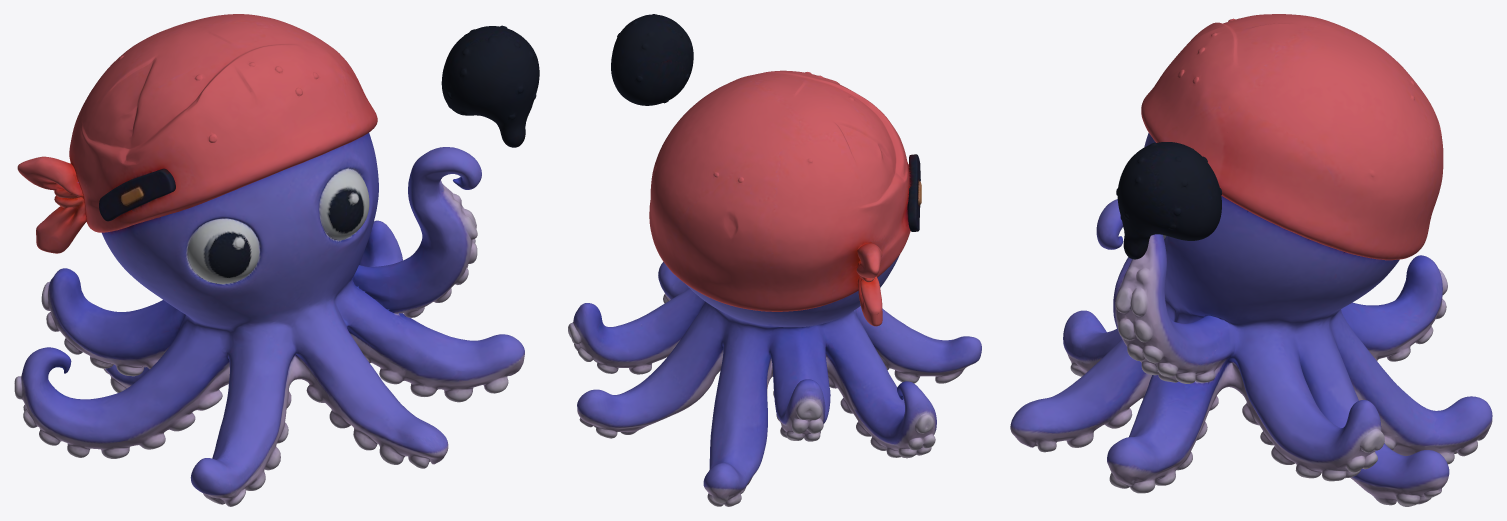
File: tripo_convert_dfeadf2a-b6bb-4936-8fae-9dc10b969085.fbx
The picture shows the model from 3 angles, left to right: view 1: azimuth 30°, elevation 25°; view 2: azimuth 150°, elevation 25°; view 3: azimuth 270°, elevation 25°; orthographic projection. The views are drawn at different scales.
Visible parts, largest first — view 1: tripo_node_dfeadf2a; view 2: tripo_node_dfeadf2a; view 3: tripo_node_dfeadf2a.
Boxes of the visible parts, <box> form: tripo_node_dfeadf2a: <box>14,14,539,506</box>; tripo_node_dfeadf2a: <box>568,14,981,506</box>; tripo_node_dfeadf2a: <box>1010,14,1492,506</box>.
Bounding box in the file's own units: 100 × 91.44 × 91.59.
Materials: 1 (1 with a texture image).
